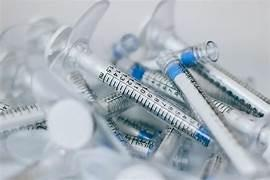Syringe: (48, 7, 211, 145), (157, 51, 259, 176), (199, 63, 269, 115), (0, 104, 46, 136), (152, 126, 180, 164), (116, 115, 159, 139), (93, 92, 132, 116), (124, 134, 158, 157), (200, 153, 227, 179)
